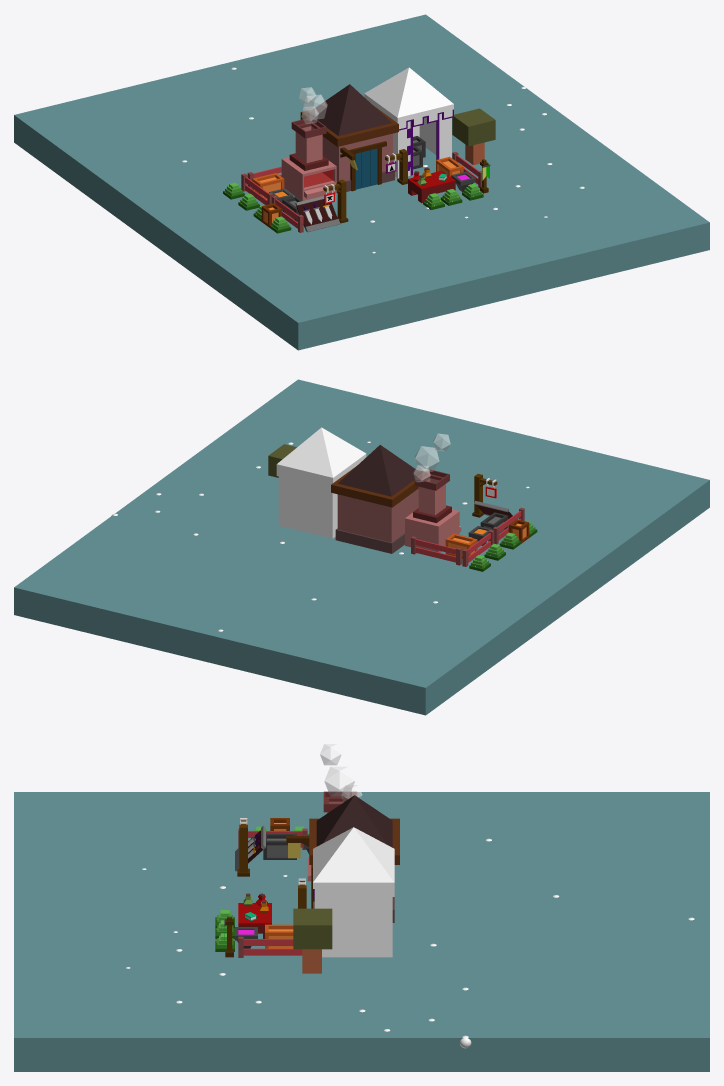
The model's file is home.glb.
3 views of the same model, one above another, from view 1: azimuth 30°, elevation 25°; view 2: azimuth 150°, elevation 25°; view 3: azimuth 270°, elevation 25° (orthographic). The views are drawn at different scales.
Parts seen in each view (by area): view 1: box (×8), pyramid4 (×2); view 2: box (×6), pyramid4 (×2); view 3: box (×6), pyramid4 (×2), icosahedron.
Part boxes in pixels (x1,y1,x2,y2): box (×8): [14, 14, 709, 350]; pyramid4 (×2): [308, 67, 453, 135]; box (×6): [14, 379, 709, 715]; pyramid4 (×2): [277, 427, 421, 496]; box (×6): [14, 792, 709, 1071]; pyramid4 (×2): [313, 795, 394, 882]; icosahedron: [324, 766, 354, 796].
Size of the model in its own units: 33.06 by 10.2 by 39.25.
